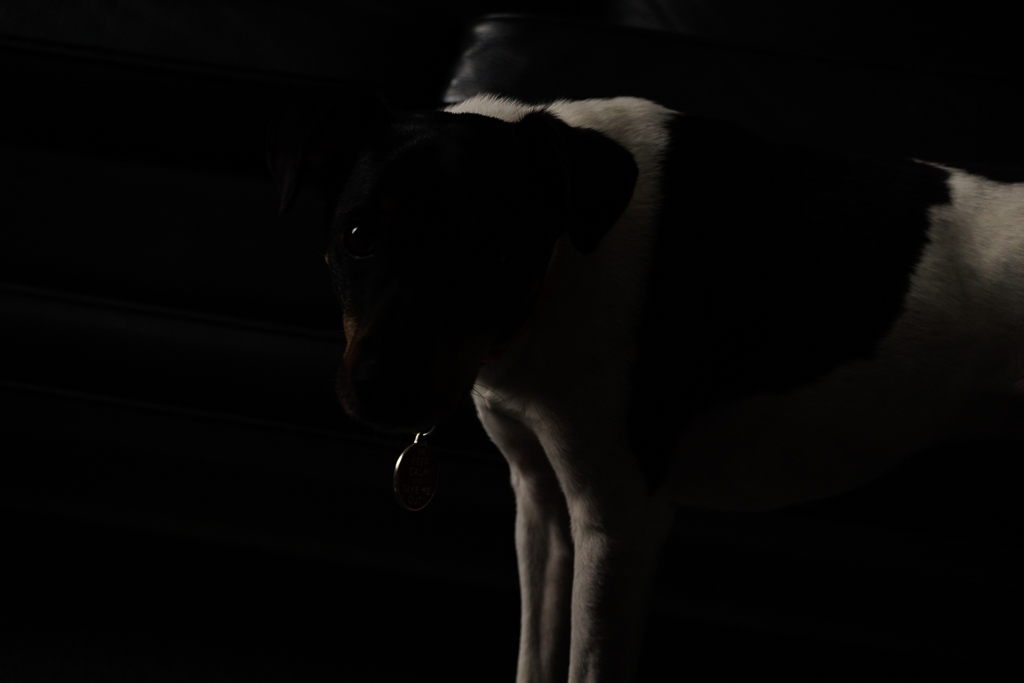Dog: (234, 54, 1024, 683)
